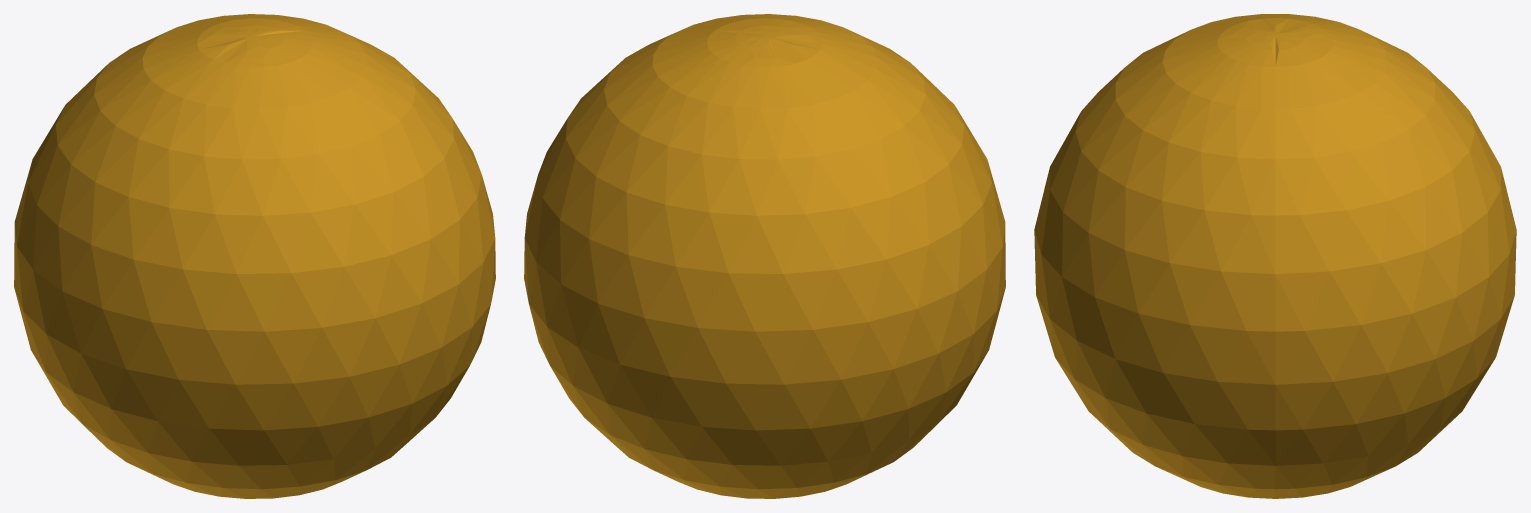
The model's file is back_wheel.dae.
3 views of the same model, side by side, from view 1: azimuth 30°, elevation 25°; view 2: azimuth 150°, elevation 25°; view 3: azimuth 270°, elevation 25° (orthographic).
Parts seen in each view (by area): view 1: node0; view 2: node0; view 3: node0.
Boxes of the visible parts, x1,y1,x2,y2 form: node0: (14,14,495,498); node0: (524,14,1005,498); node0: (1034,14,1516,498).
Bounding box in the file's own units: 0.1291 × 0.1291 × 0.13.
